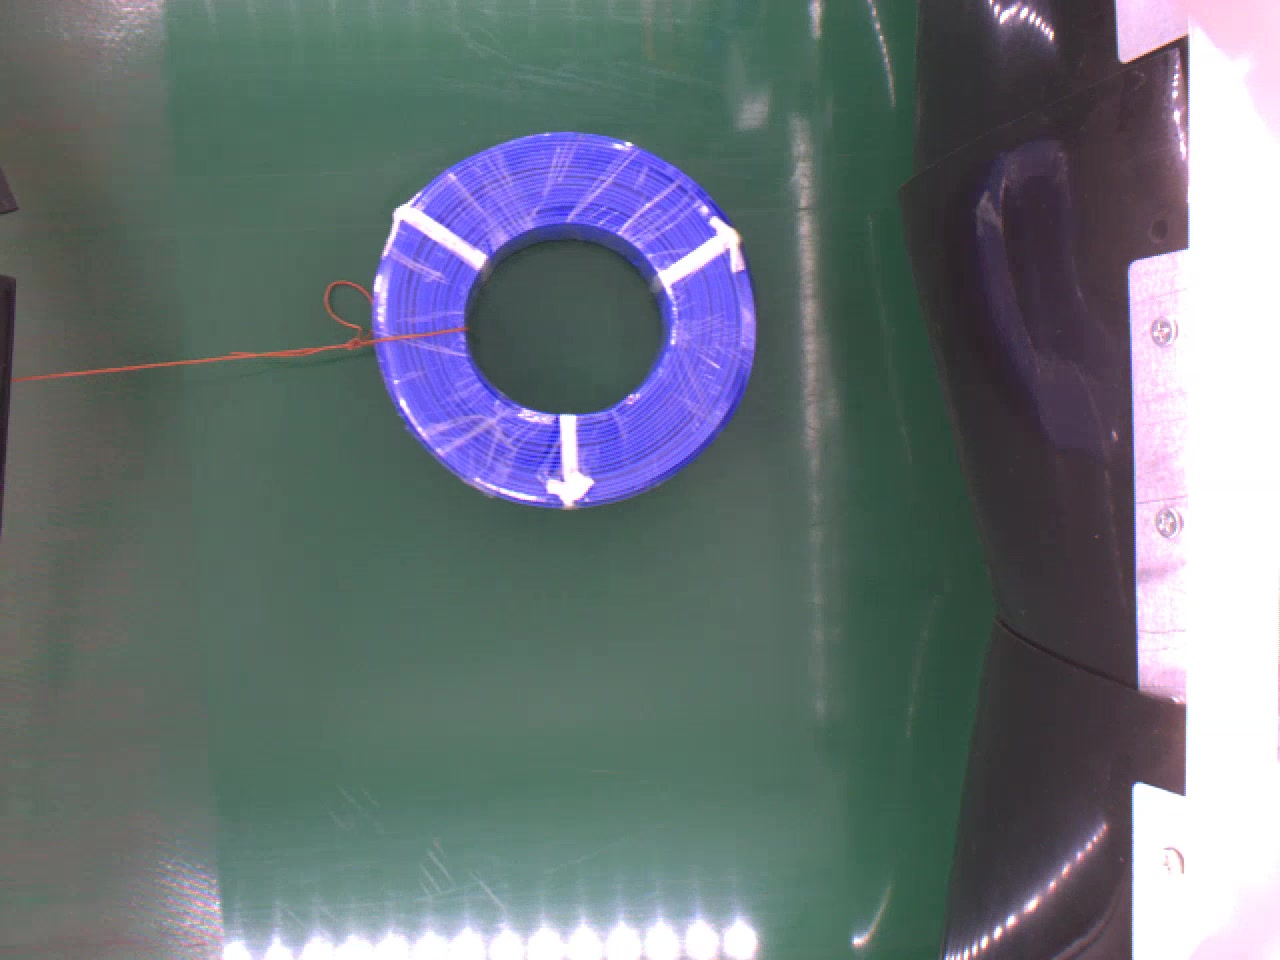blue: (363, 128, 761, 522)
